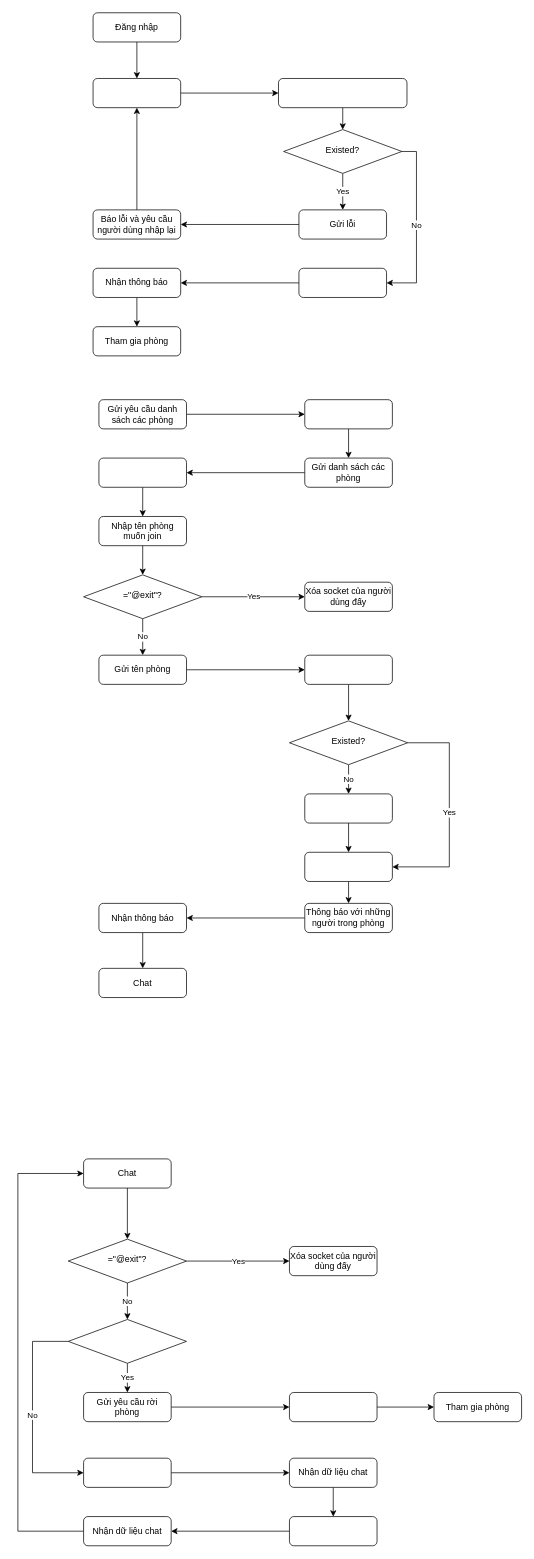
Some shapes in this 534 by 1559 pixel diagram are drawn without their labels. The shapes that lost their labels are listed below. From the top down, each one's box as (x1, y1, x2, y2) in pixels, then its label:
(92, 78, 181, 108): Gửi yêu cầu đăng nhập
(278, 78, 407, 108): Nhận yêu cầu đăng nhập
(298, 268, 387, 297): Thêm người dùng vào danh sách và thông báo thành công
(304, 399, 392, 429): Nhận yêu cầu
(98, 457, 187, 487): Nhận và hiện thị danh sách các phòng
(304, 654, 392, 684): Nhận tên phòng
(304, 793, 392, 823): Tạo phòng
(304, 852, 392, 881): Thêm người dùng vào phòng
(68, 1319, 187, 1363): ="@leave"?
(289, 1392, 377, 1422): Xóa người dùng khỏi phòng
(83, 1457, 171, 1487): Gửi dữ liệu chat
(289, 1516, 377, 1546): Gửi dữ liệu chat đến những người khác trong phòng
